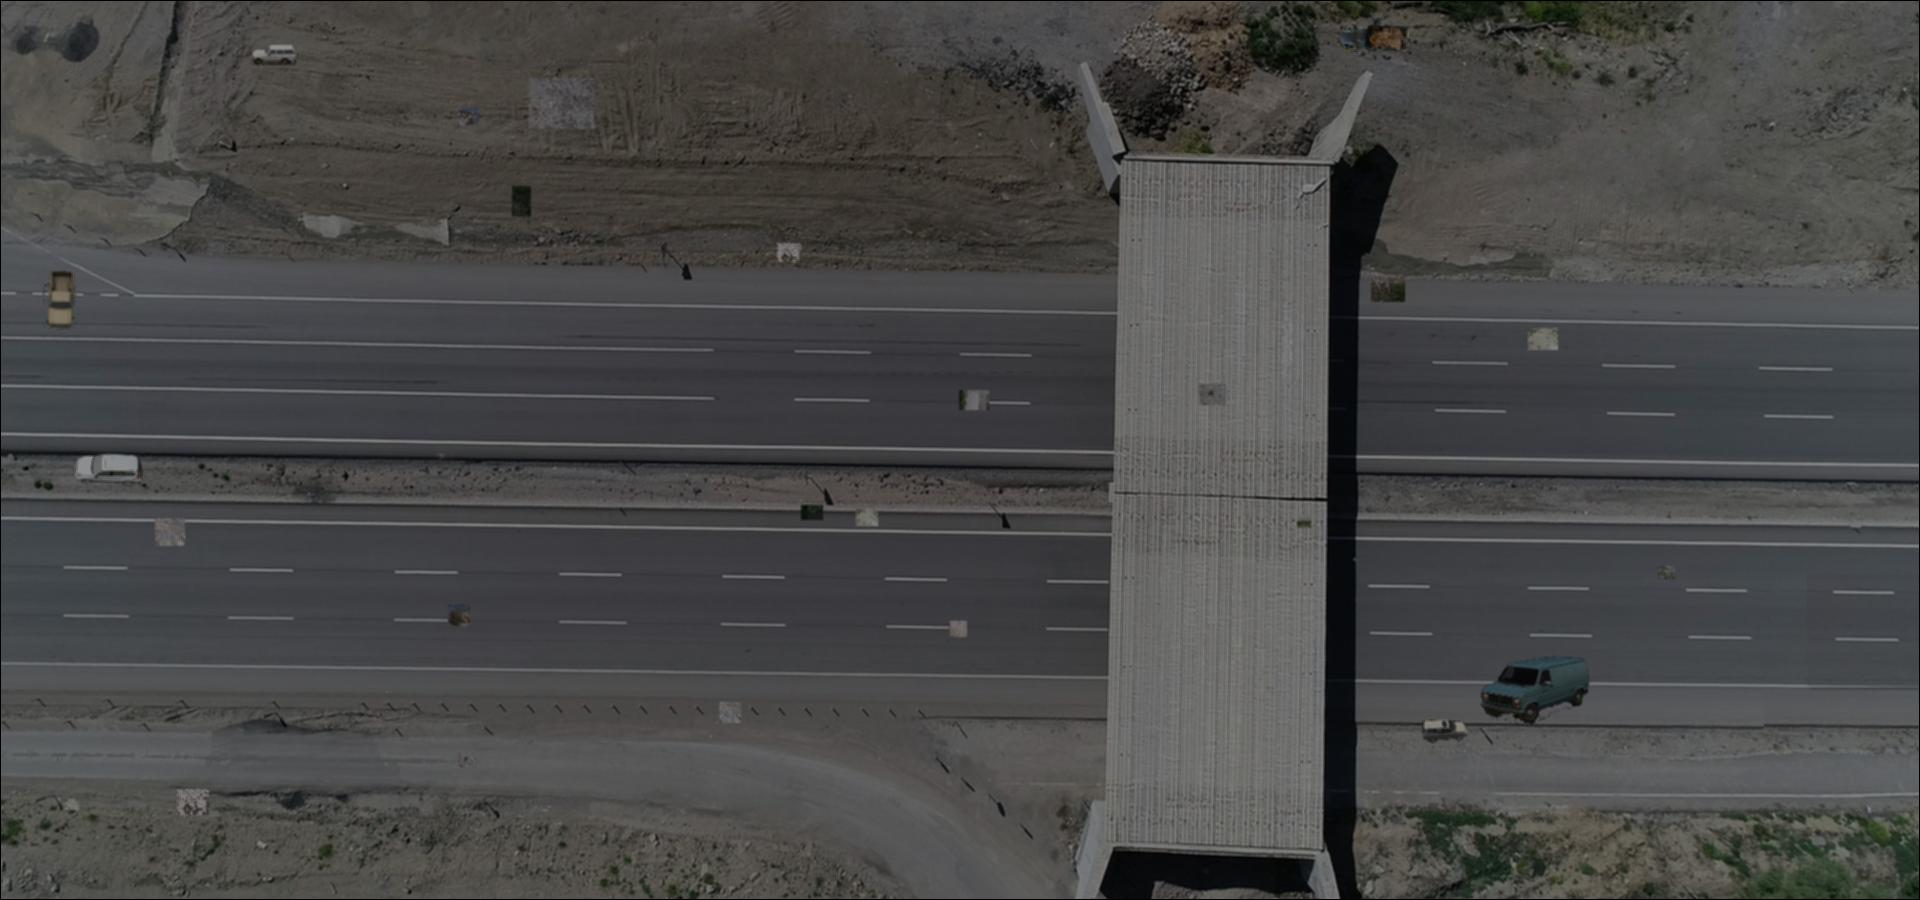arac: (1480, 651, 1589, 725), (1337, 20, 1411, 56), (73, 452, 144, 486), (43, 268, 76, 329), (1420, 719, 1469, 743), (251, 44, 296, 65)
